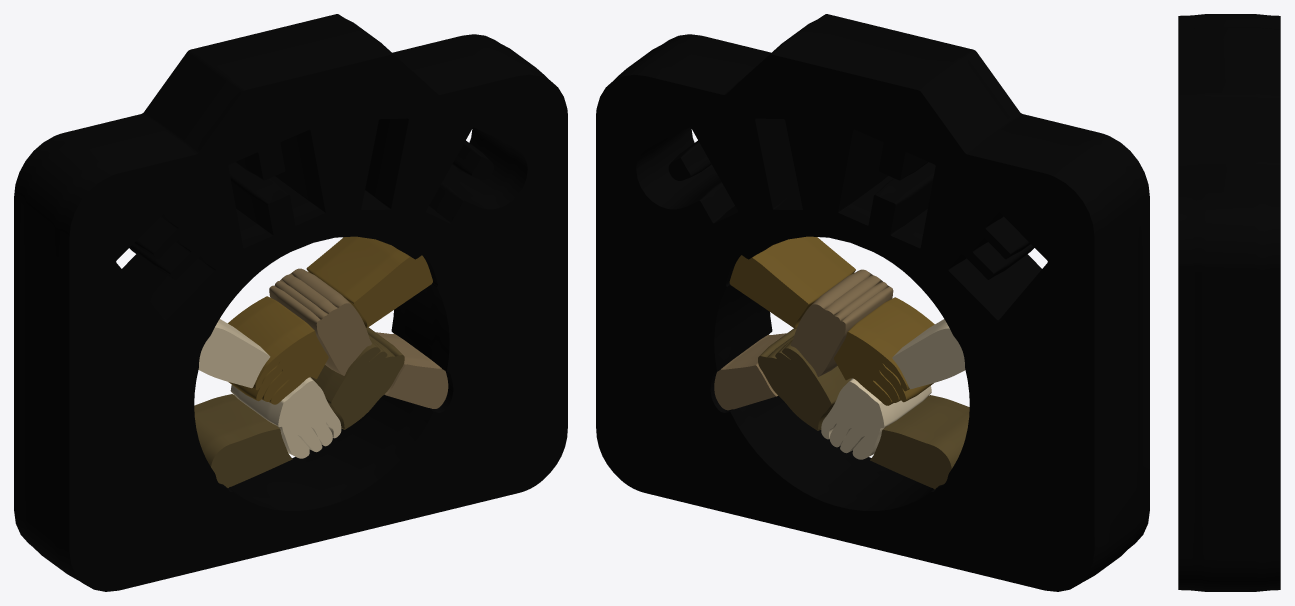
Rendered from ehip.fbx.
3 views of the same model, side by side, from view 1: azimuth 30°, elevation 25°; view 2: azimuth 150°, elevation 25°; view 3: azimuth 270°, elevation 25° (orthographic). The views are drawn at different scales.
Parts seen in each view (by area): view 1: polySurface2; view 2: polySurface2; view 3: polySurface2.
Part boxes in pixels (x1,y1,x2,y2): polySurface2: (14, 14, 567, 591); polySurface2: (596, 14, 1149, 591); polySurface2: (1178, 14, 1280, 591).
Bounding box in the file's own units: 27.64 × 24.89 × 5.28.
